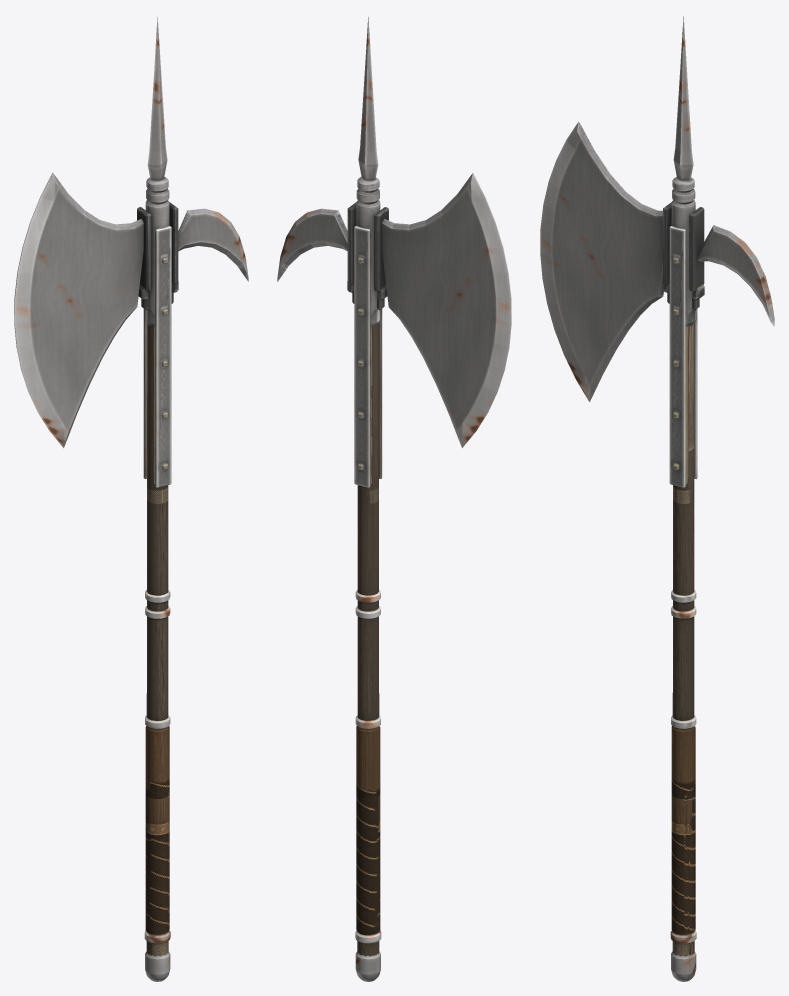
Rendered from w_halberd_t1.glb.
3 renders of one model, left to right at view 1: azimuth 30°, elevation 25°; view 2: azimuth 150°, elevation 25°; view 3: azimuth 330°, elevation 25°, orthographic.
Parts seen in each view (by area): view 1: w_halberd; view 2: w_halberd; view 3: w_halberd.
Part boxes in pixels (<box>): w_halberd: <box>14,16,248,981</box>; w_halberd: <box>277,16,511,981</box>; w_halberd: <box>540,16,774,981</box>.
Size of the model in its own units: 30.38 by 120 by 3.78.
Materials: 1 (1 with a texture image).
